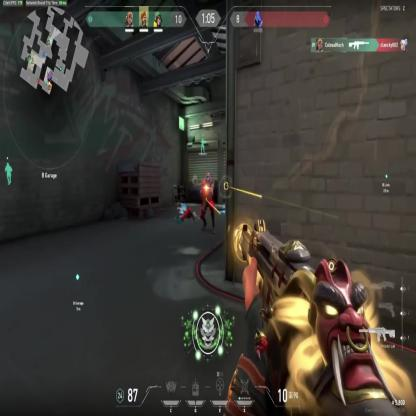enemy: (199, 171, 216, 234)
enemy_head: (205, 173, 210, 185)
